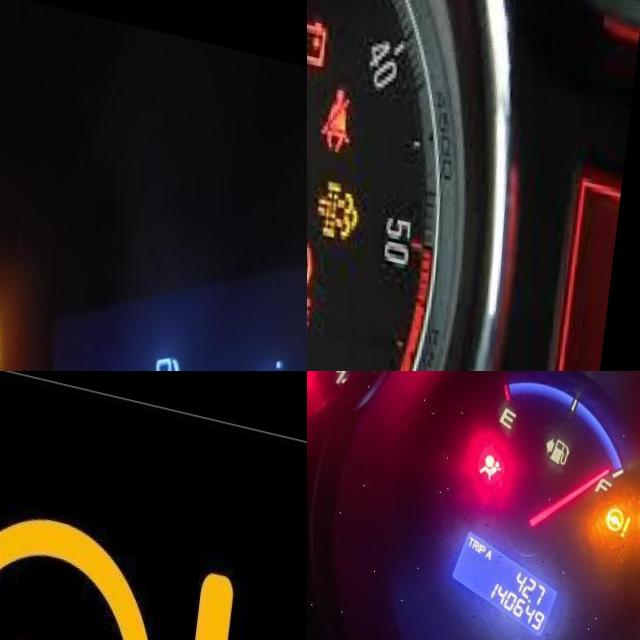Electronic Power Steering: (0, 482, 242, 640)
Electronic Power Steering Warning: (607, 483, 640, 522)
Seat Belt: (328, 69, 361, 134)
